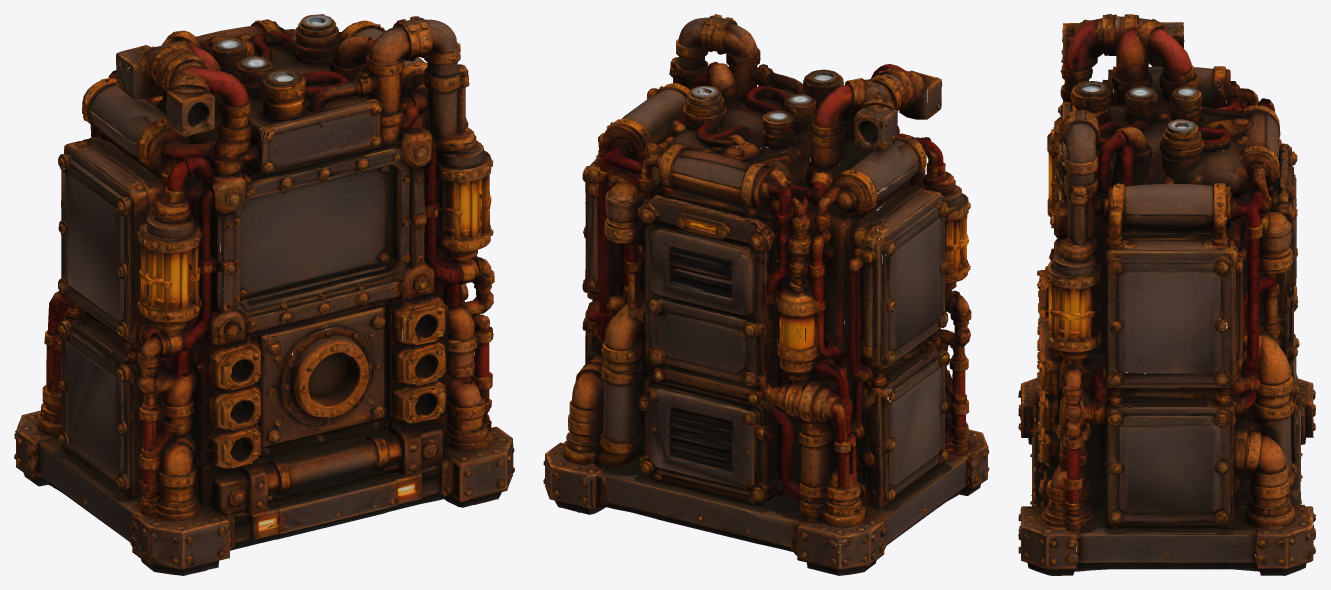
File: computer.glb
3 renders of one model, left to right at view 1: azimuth 30°, elevation 25°; view 2: azimuth 150°, elevation 25°; view 3: azimuth 270°, elevation 25°, orthographic. The views are drawn at different scales.
Visible parts, largest first — view 1: Mesh_0; view 2: Mesh_0; view 3: Mesh_0.
Boxes of the visible parts, <box> form: Mesh_0: <box>14,14,514,575</box>; Mesh_0: <box>543,14,989,575</box>; Mesh_0: <box>1018,14,1316,575</box>.
Size of the model in its own units: 0.7196 by 0.8903 by 0.5524.
Materials: 1 (1 with a texture image).
